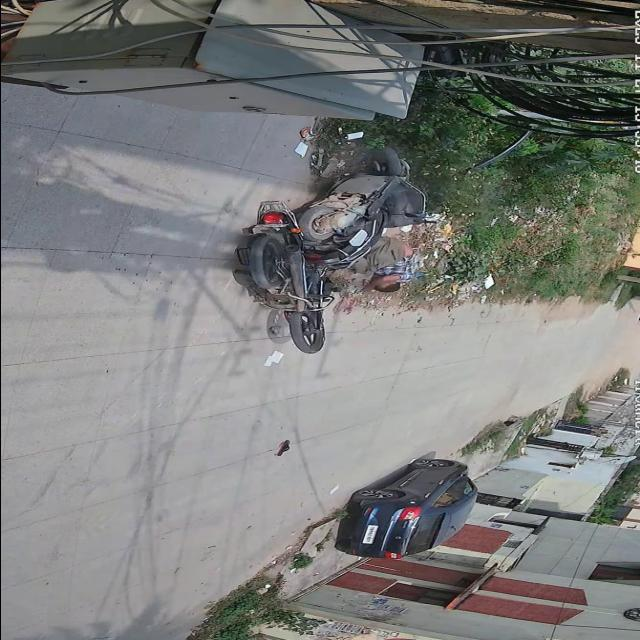accident: (233, 139, 450, 359)
